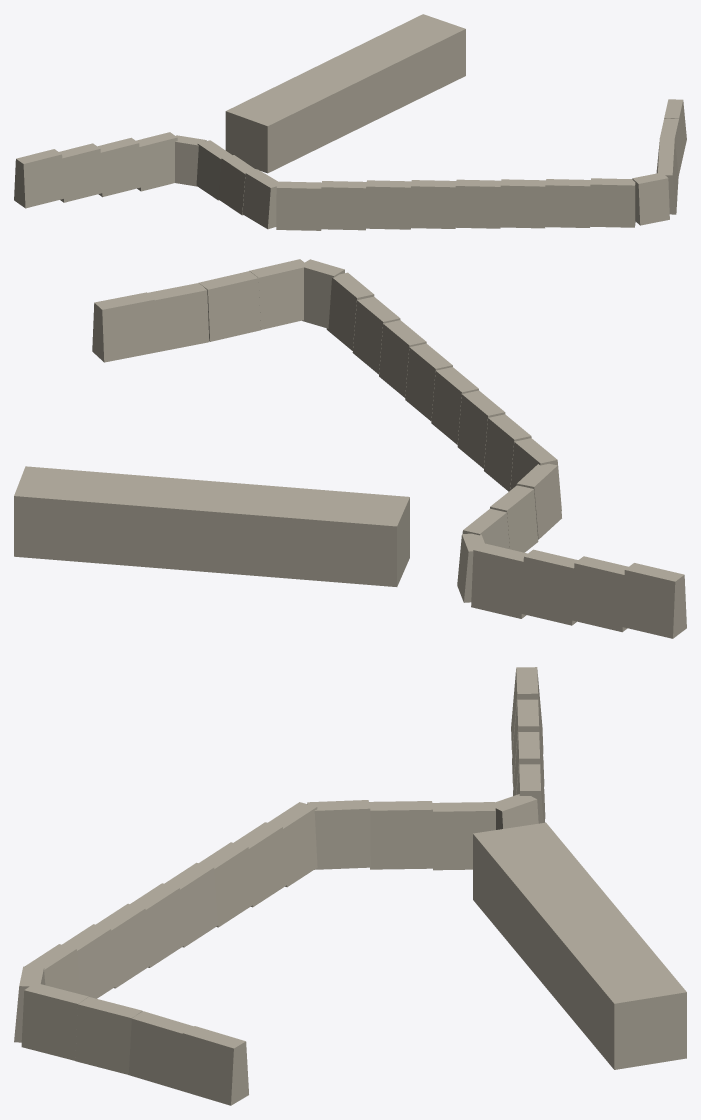
The model's file is bormla_61_33_far.glb.
The picture shows the model from 3 angles, top to bottom: view 1: azimuth 30°, elevation 25°; view 2: azimuth 150°, elevation 25°; view 3: azimuth 270°, elevation 25°; orthographic projection. The views are drawn at different scales.
Visible parts, largest first — view 1: geometry_0; view 2: geometry_0; view 3: geometry_0.
Boxes of the visible parts, x1,y1,x2,y2 form: geometry_0: [14, 14, 686, 230]; geometry_0: [14, 259, 686, 638]; geometry_0: [14, 667, 686, 1105].
Bounding box in the file's own units: 174 × 16.76 × 128.
